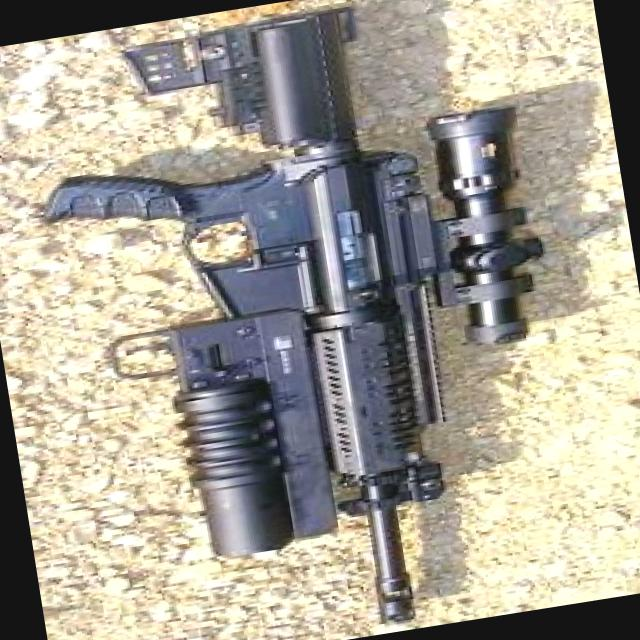long weapon: (24, 0, 598, 640)
